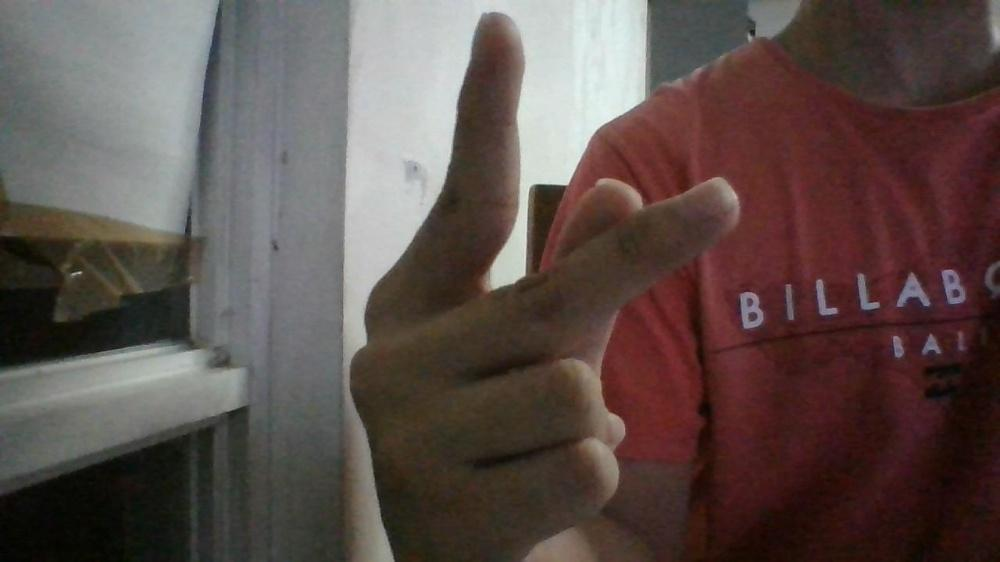k: (345, 2, 742, 562)
